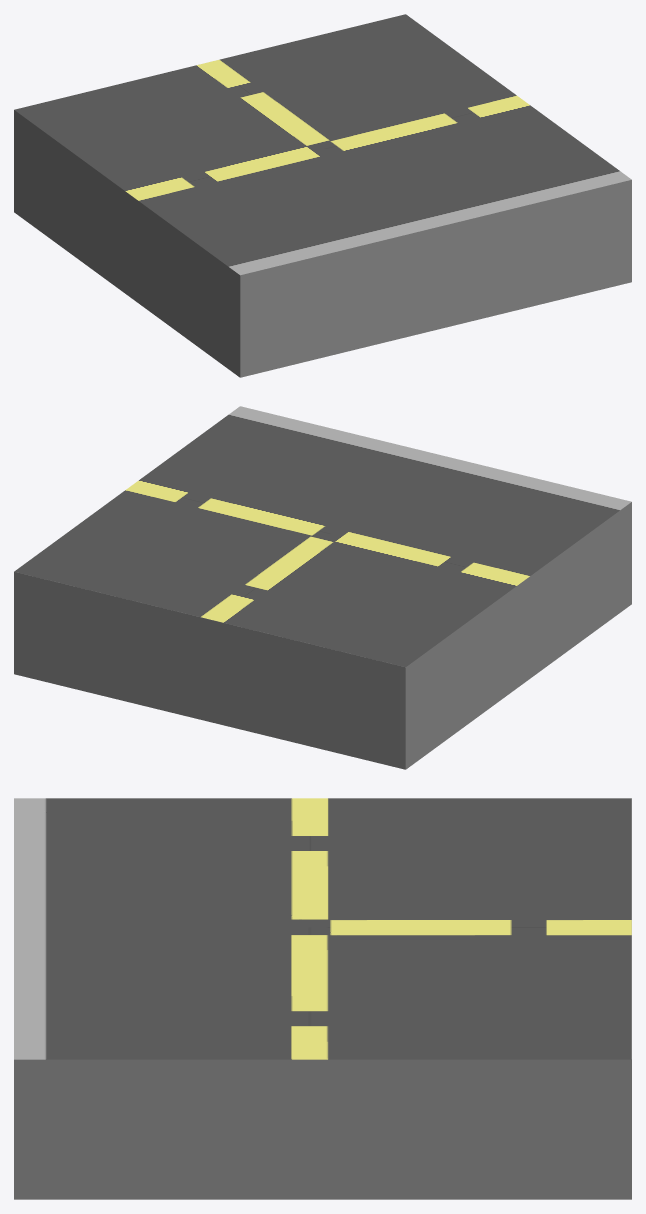
File: 2025-11-26-Boswell-TRoad-v002.fbx
3 views of the same model, one above another, from view 1: azimuth 30°, elevation 25°; view 2: azimuth 150°, elevation 25°; view 3: azimuth 270°, elevation 25° (orthographic). The views are drawn at different scales.
Parts seen in each view (by area): view 1: Cube; view 2: Cube; view 3: Cube.
Part boxes in pixels (x1,y1,x2,y2): Cube: (14, 14, 631, 377); Cube: (14, 406, 631, 769); Cube: (14, 798, 631, 1199).
Bounding box in the file's own units: 100 × 25 × 100.
Materials: 2 (1 with a texture image).
